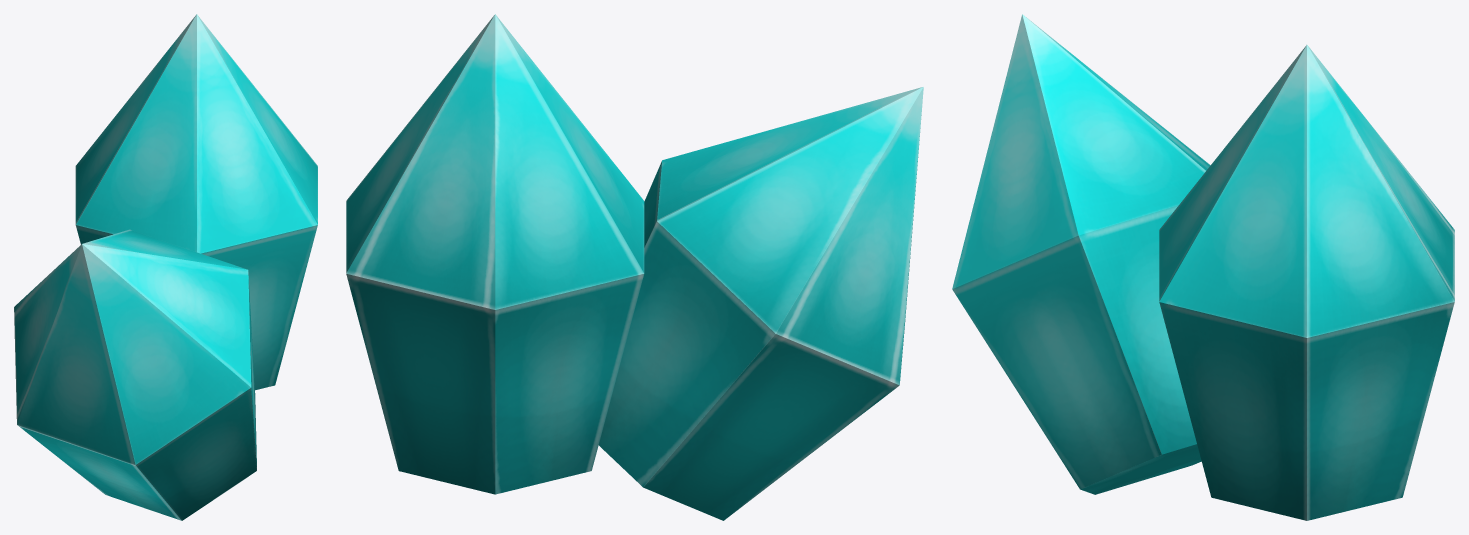
Rendered from crystalB.fbx.
The picture shows the model from 3 angles, left to right: view 1: azimuth 30°, elevation 25°; view 2: azimuth 150°, elevation 25°; view 3: azimuth 270°, elevation 25°; orthographic projection. The views are drawn at different scales.
Parts seen in each view (by area): view 1: crystalB; view 2: crystalB; view 3: crystalB.
Boxes of the visible parts, x1,y1,x2,y2 form: crystalB: [14, 14, 317, 520]; crystalB: [346, 14, 923, 520]; crystalB: [952, 14, 1454, 520].
Bounding box in the file's own units: 0.9219 × 0.9825 × 0.8762.
